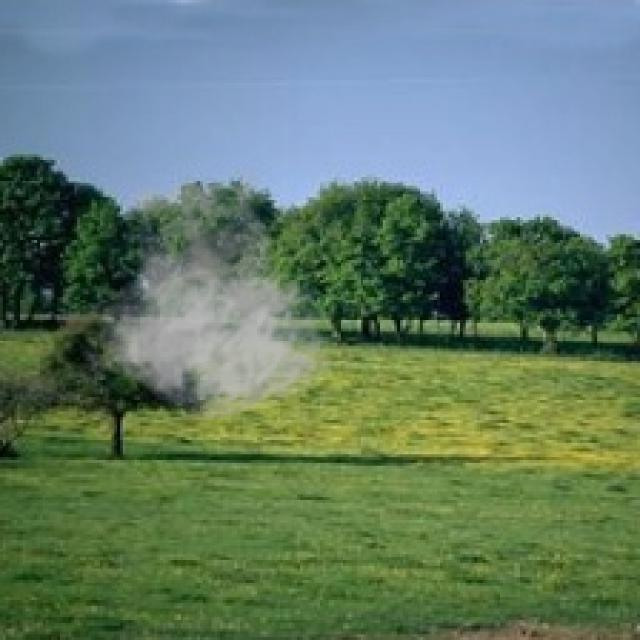smoke: (83, 163, 337, 423)
